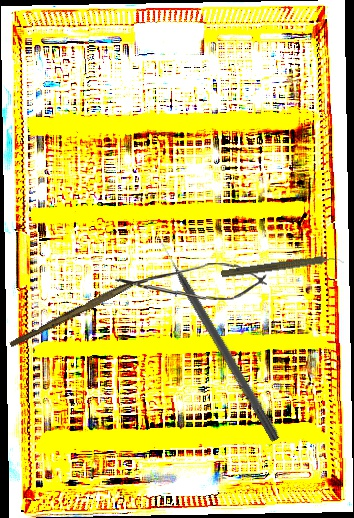Handpiece: (220, 251, 345, 283)
Micro Scissor: (114, 261, 268, 304)
Pusher: (154, 234, 283, 443)
Scalpel Handle: (8, 277, 134, 351)
